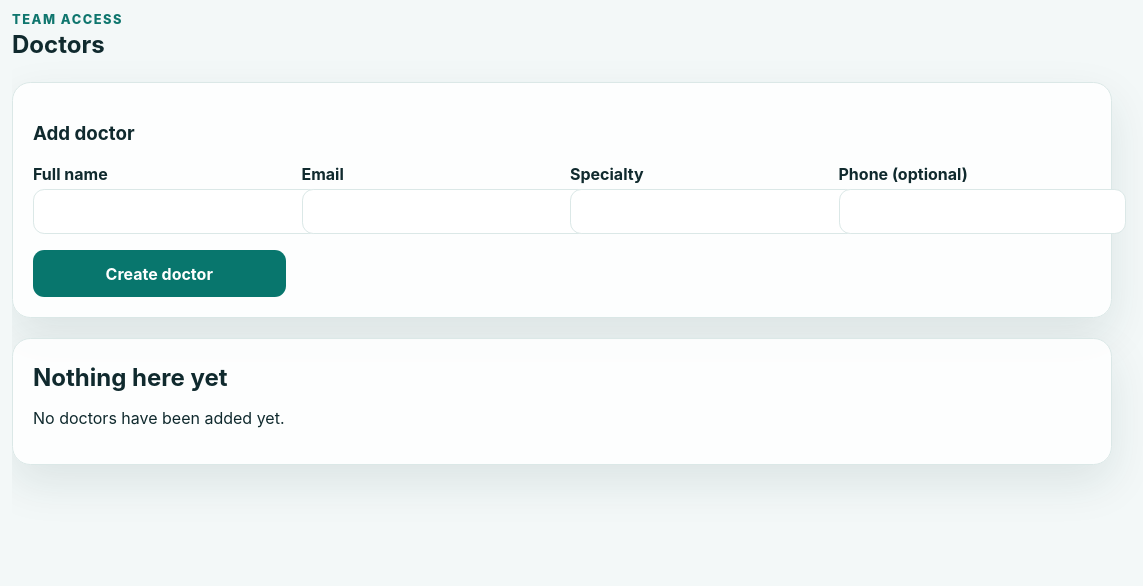
Scenario: doctor creation displays backend errors without false success
Expected: the text "No doctors have been added yet." is shown, [33,408,284,428]
Step 1. Type "Dr. Duplicate" into the field labelled "Full name" → (177, 212), box [33,189,320,234]
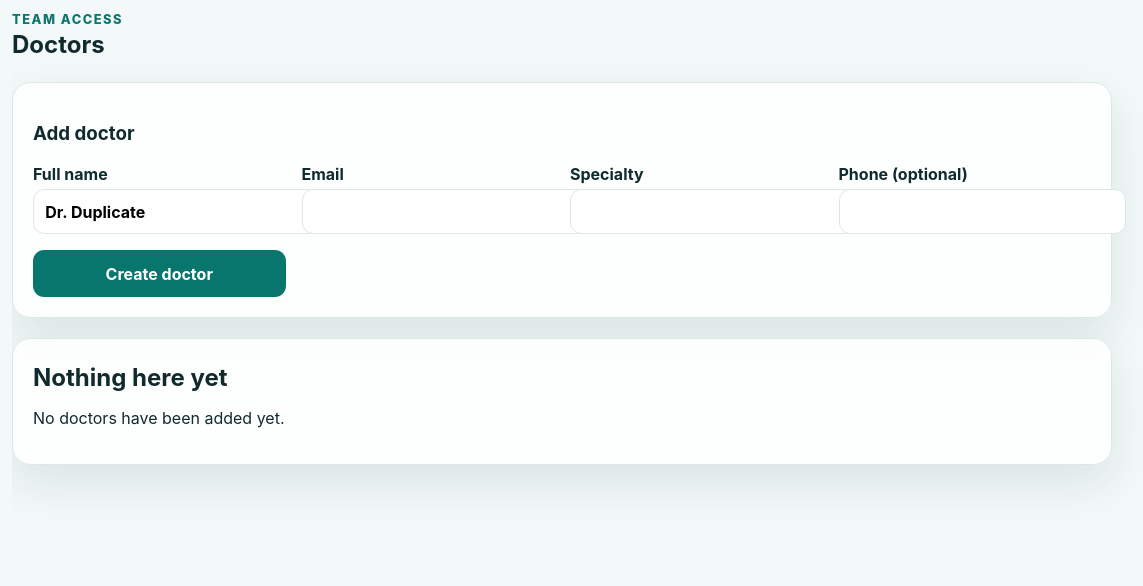
Step 2. Type "duplicate@example.test" into the field labelled "Email" → (445, 212), box [302,189,589,234]
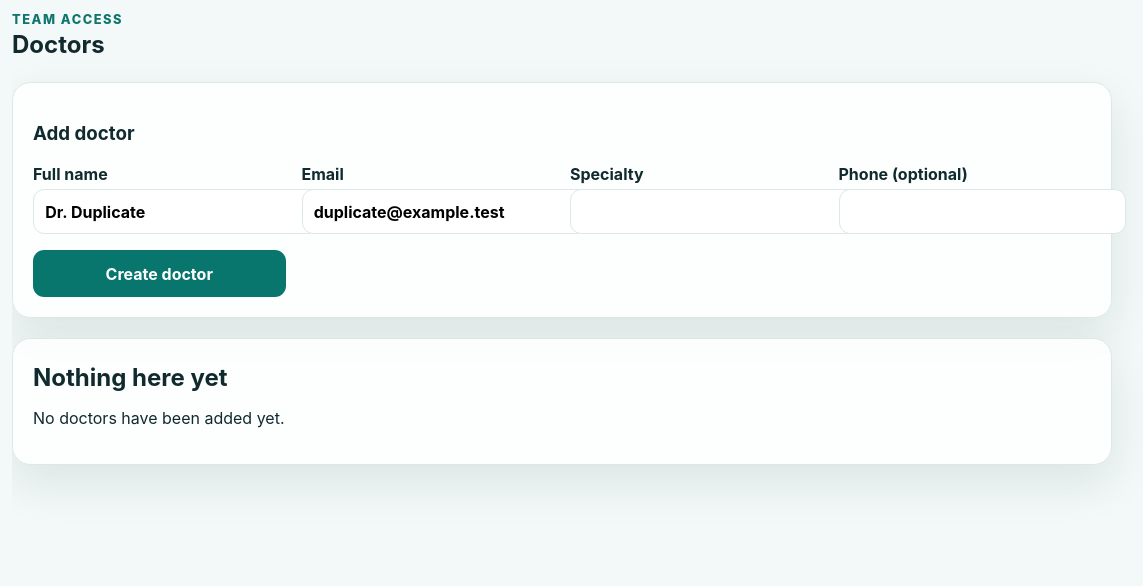
Step 3. Type "Cardiology" into the field labelled "Specialty" → (714, 212), box [570,189,857,234]
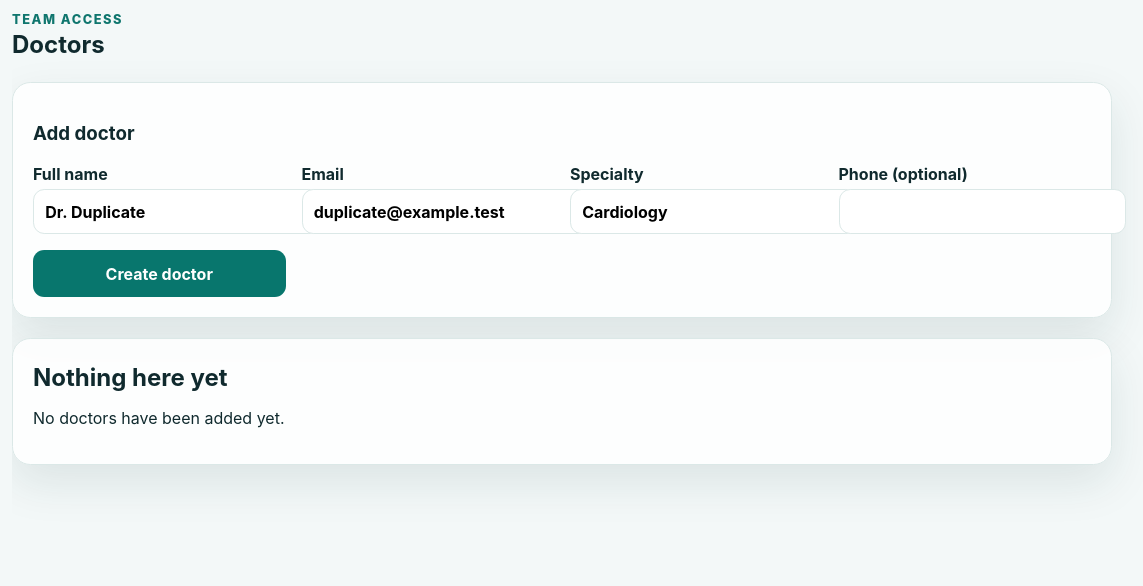
Step 4. Click the button "Create doctor" → (159, 274), box [33,250,286,297]
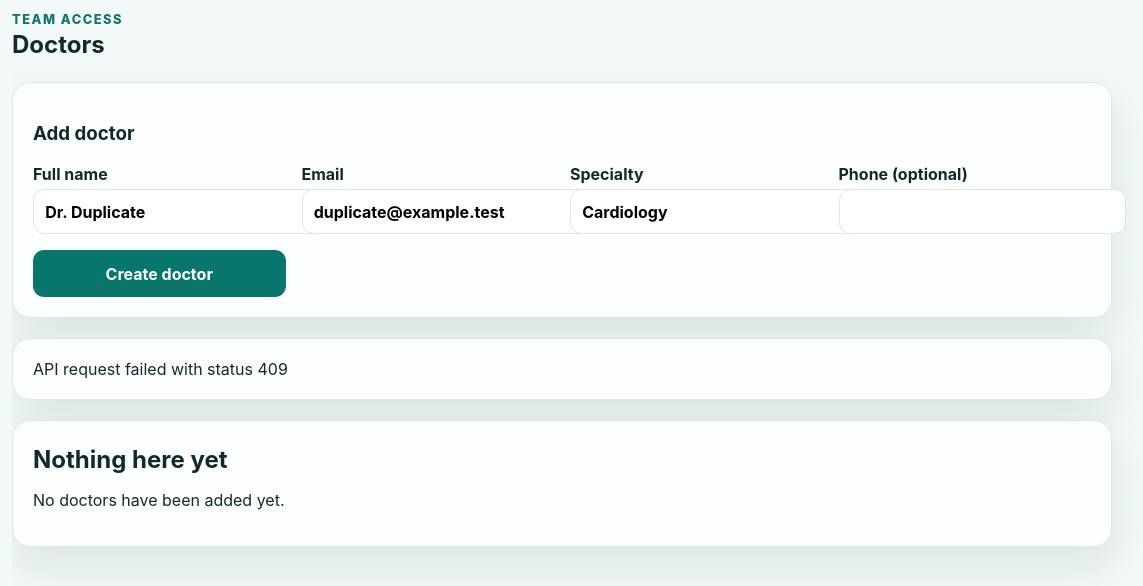
Result: the text "API request failed with status 409" is shown at [12,338,1112,400]
